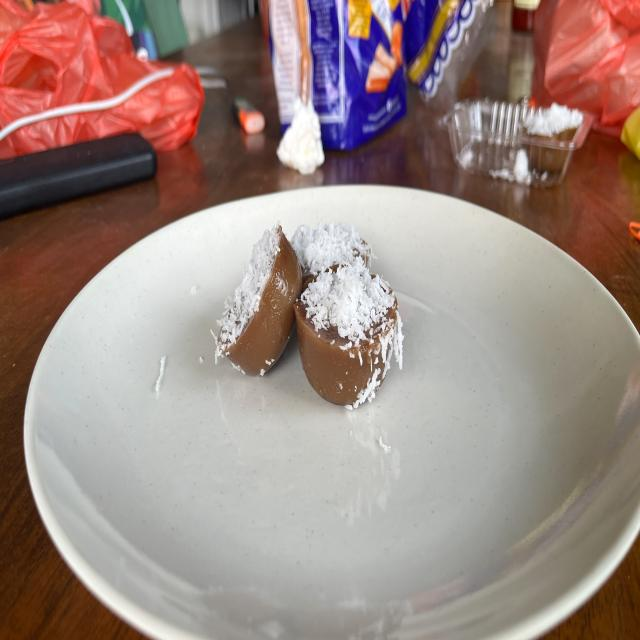Kuih lompang: (295, 258, 402, 407), (215, 222, 302, 376), (290, 222, 370, 284)
